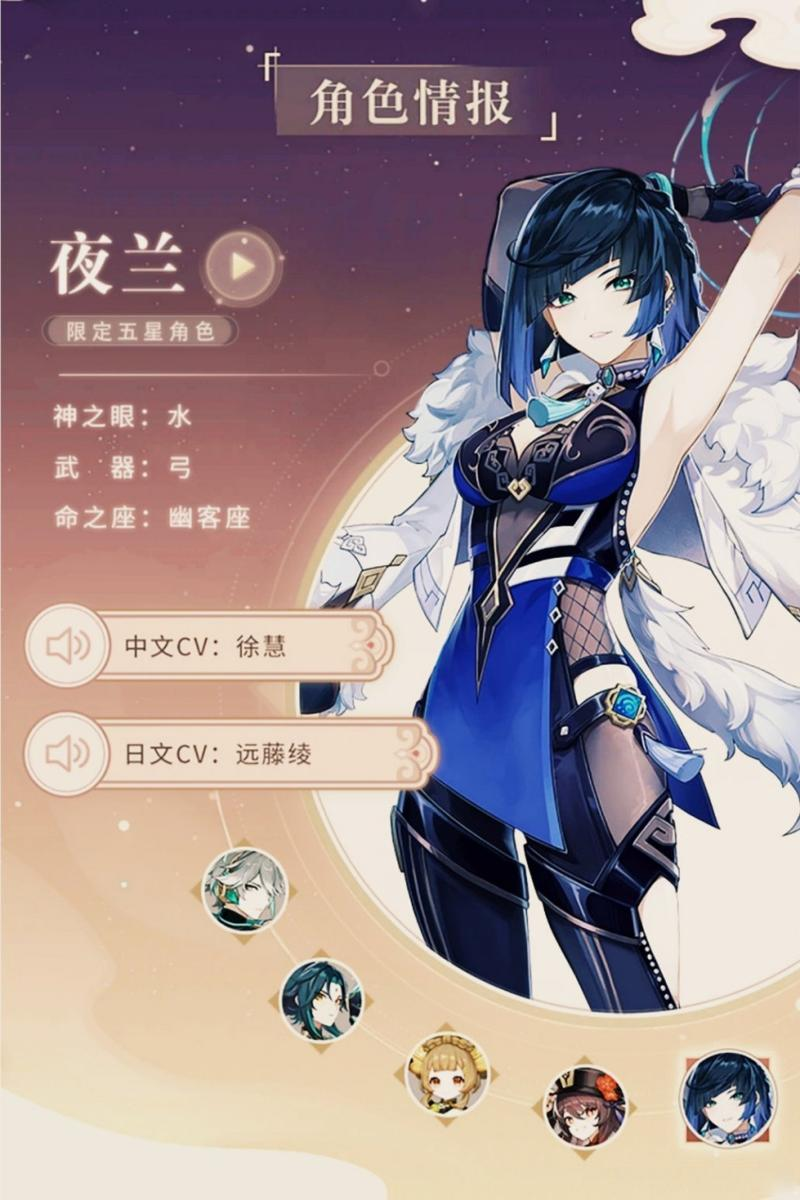夜兰: (384, 160, 800, 1013)
